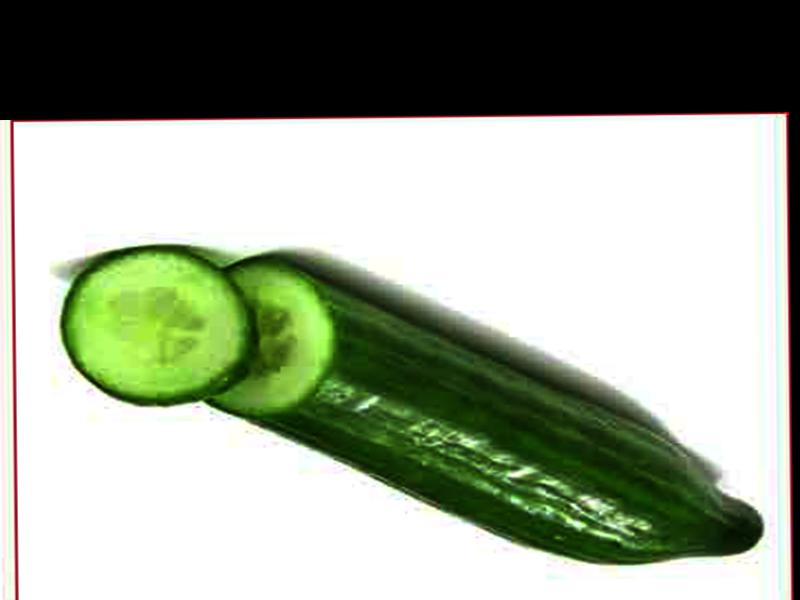Cucumber: (194, 251, 764, 567)
